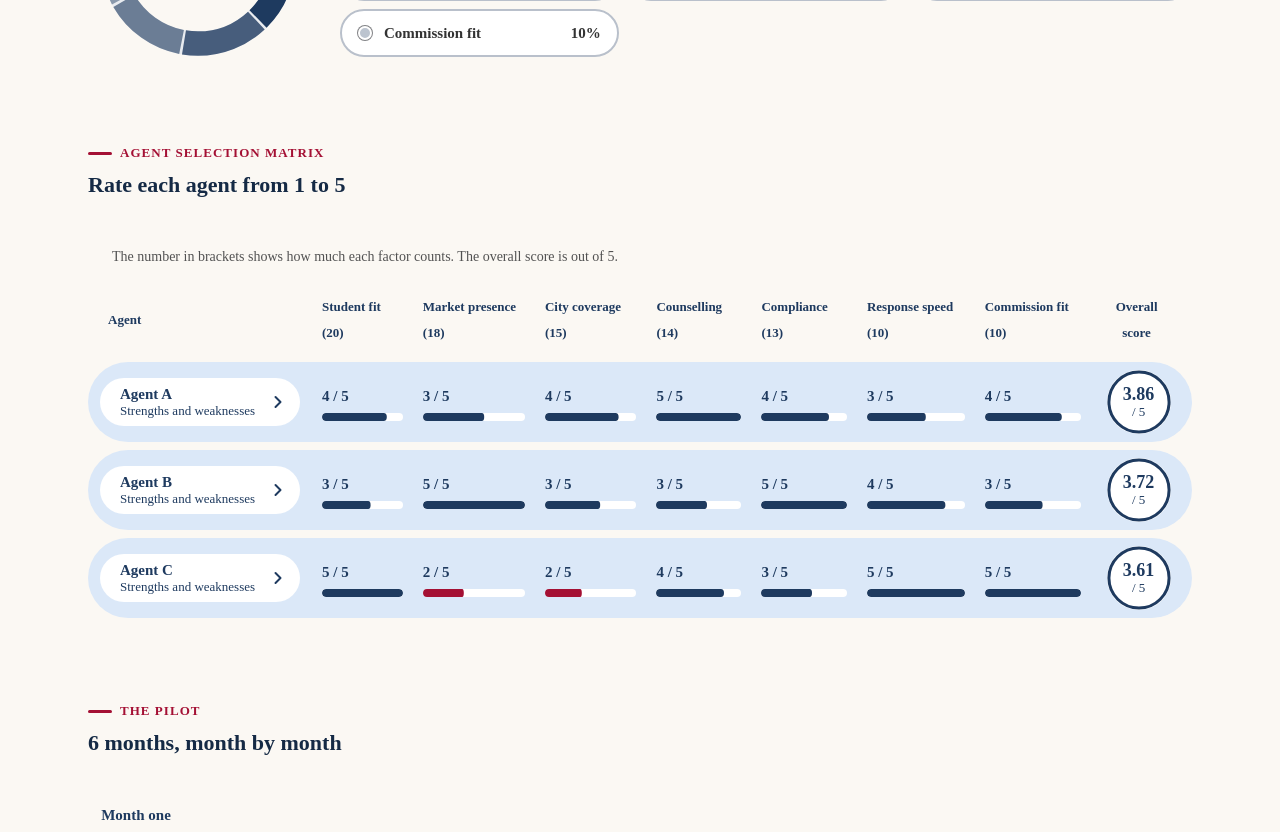
Scenario: AgentStrategy › matrix › opens a sheet with the weighted score, strength and weakness when an agent is clicked
This screenshot has width=1280, height=832.
(page scrolled)
Click the button with aria-label "Strengths and weaknesses of Agent A" at (200, 402), box [100,378,300,426]
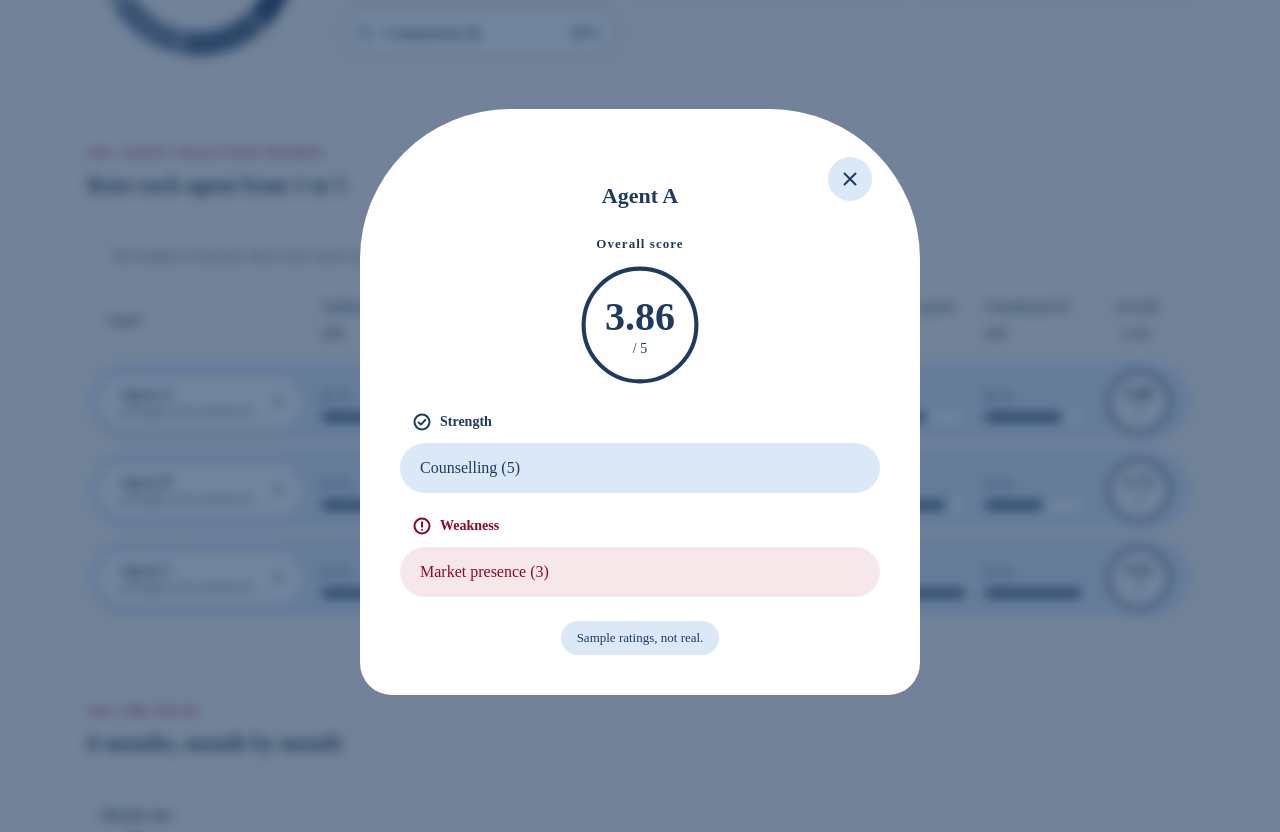
Expected: the dialog "Agent A" shows "3.86 / 5", [360,109,920,695]
Press Escape
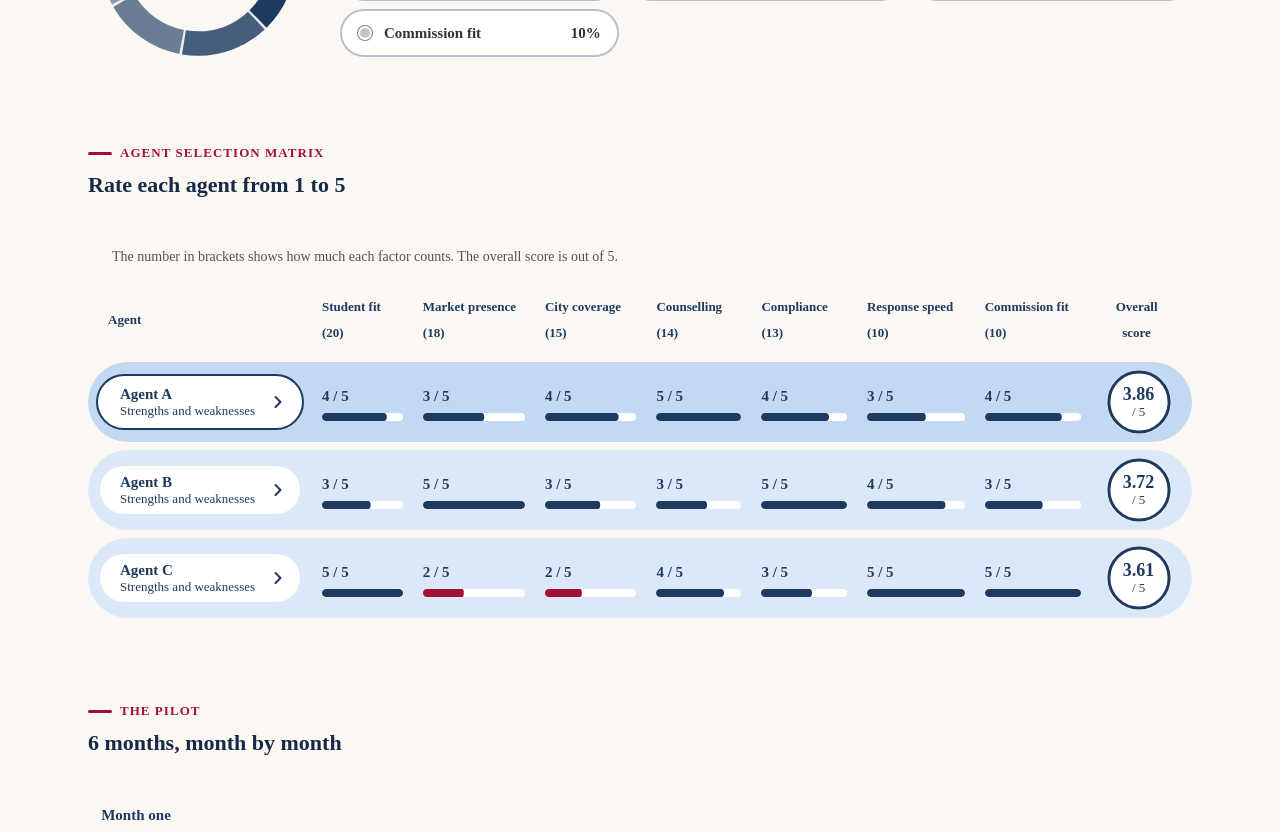
Expected: the dialog is gone
Click the button with aria-label "of Agent C" at (200, 578), box [100,554,300,602]
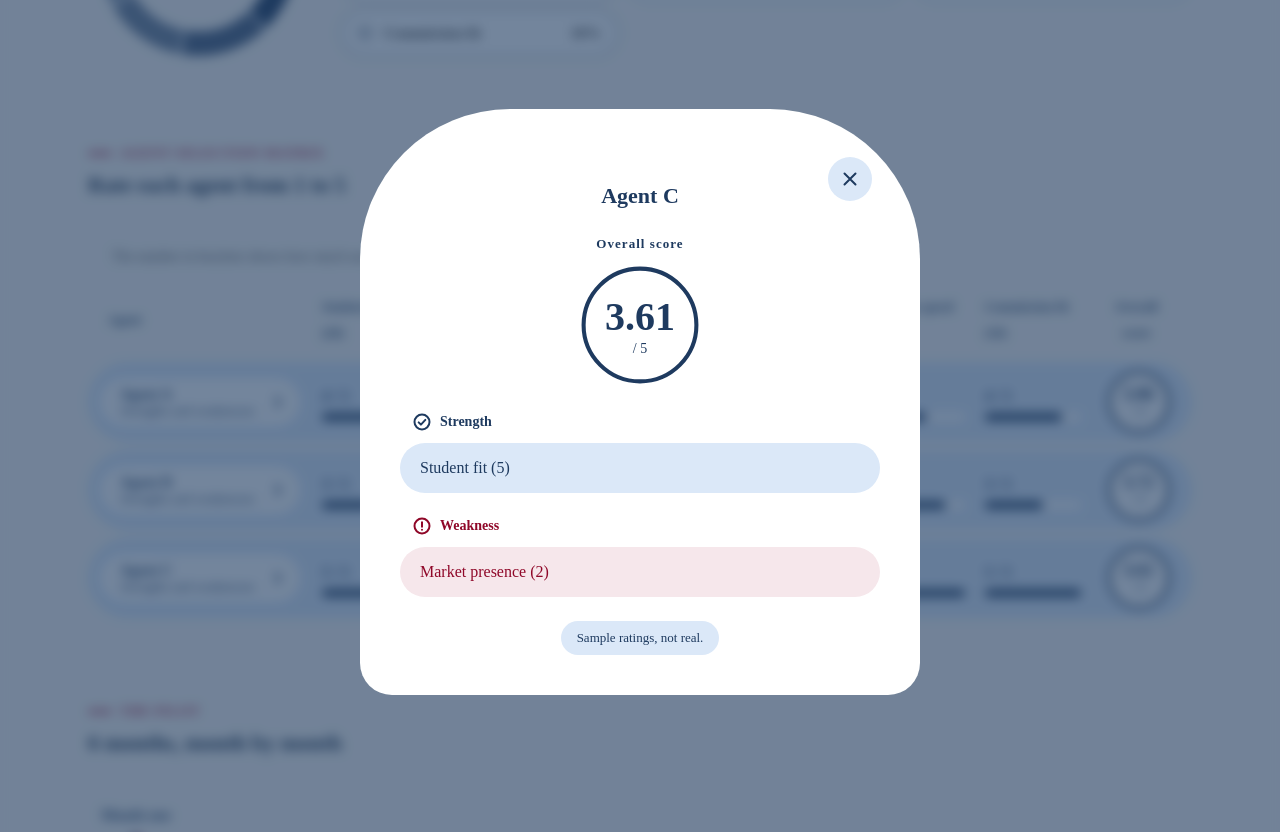
Expected: the dialog "Agent C" shows "3.61 / 5", [360,109,920,695]
Expected: the dialog "Agent C" shows "Student fit (5)", [420,459,510,476]
Expected: the dialog "Agent C" shows "Market presence (2)", [420,563,549,580]
Click the button named "Close" at (850, 179), box [828,157,872,201]
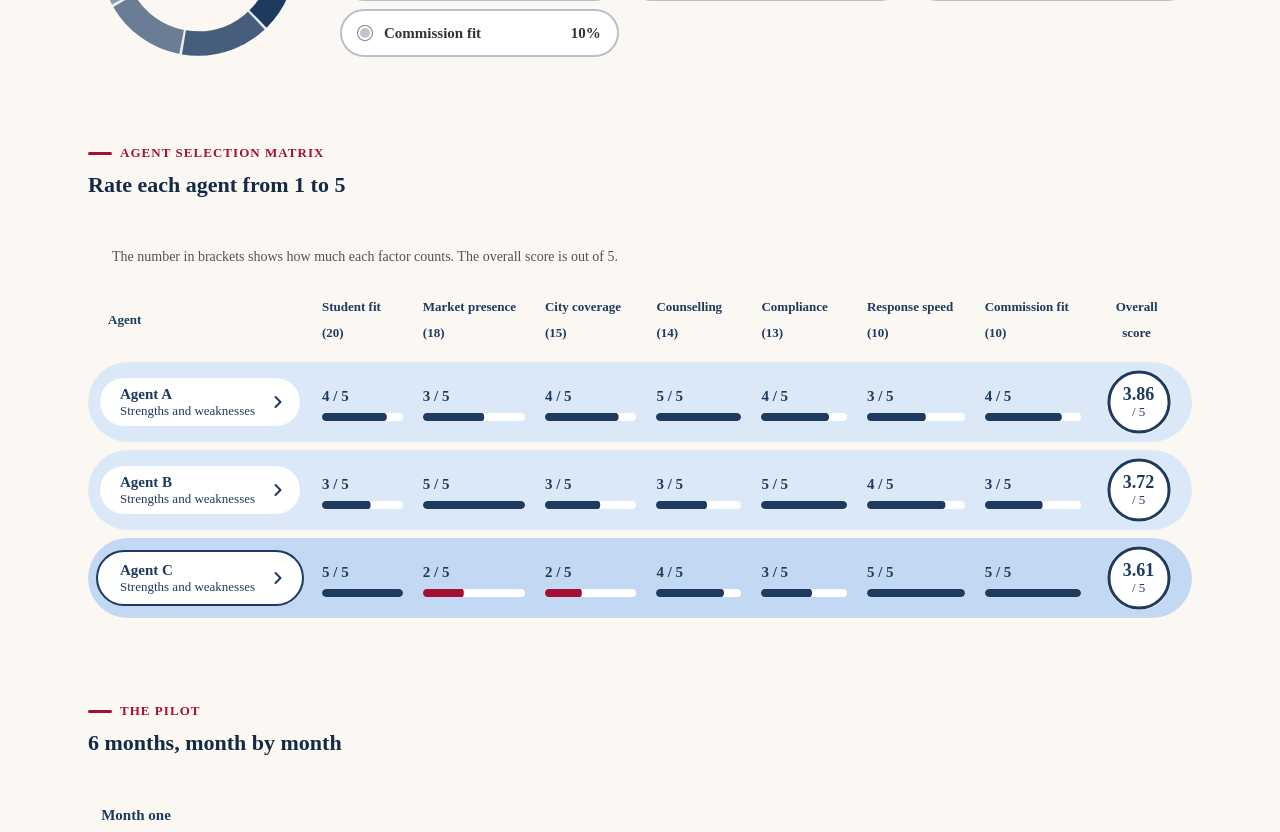
Expected: the dialog is gone
